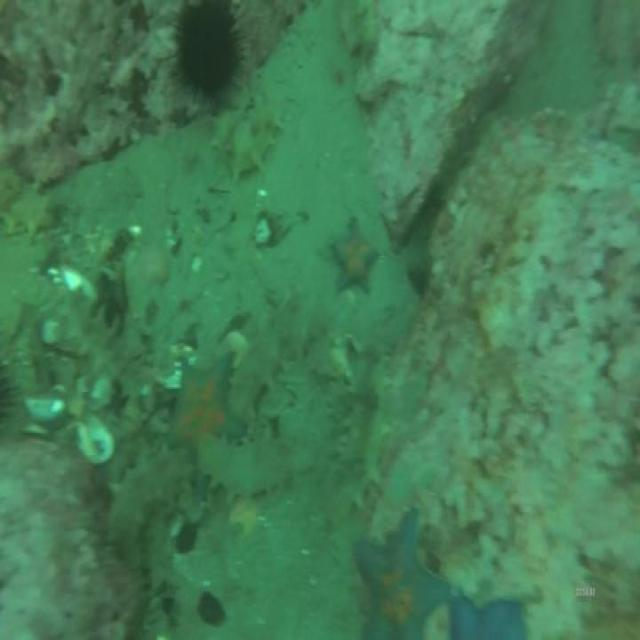echinus: (178, 5, 237, 95)
holothurian: (233, 305, 329, 423), (104, 455, 192, 534), (210, 95, 284, 175), (198, 436, 300, 492), (363, 358, 390, 506), (338, 403, 362, 469)
starfish: (356, 515, 446, 640), (176, 357, 242, 447), (333, 221, 379, 291)
